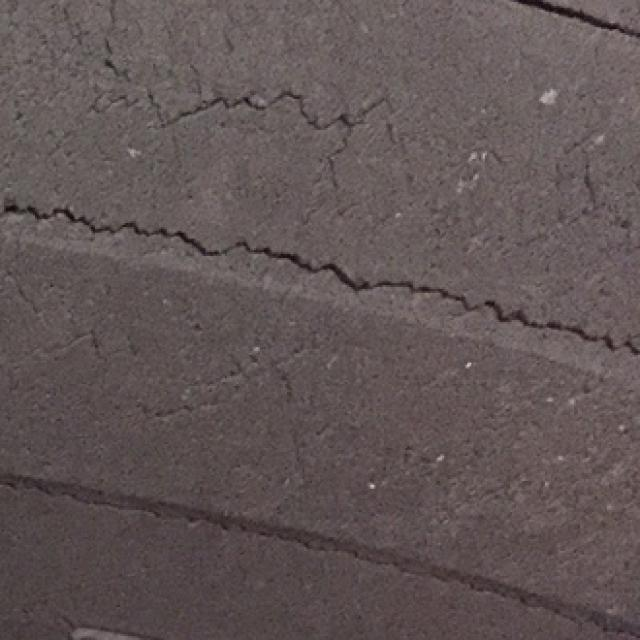Cracks: (5, 2, 640, 513)
